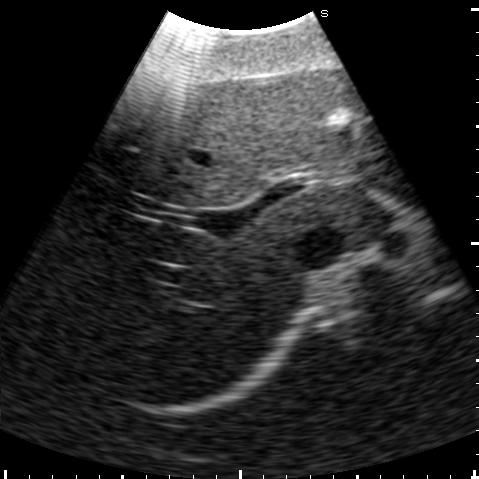S1: (264, 183, 392, 246)
S2: (360, 151, 423, 207)
S3: (328, 72, 388, 152)
S4: (162, 68, 357, 207)
Tumor: (327, 108, 356, 128)
